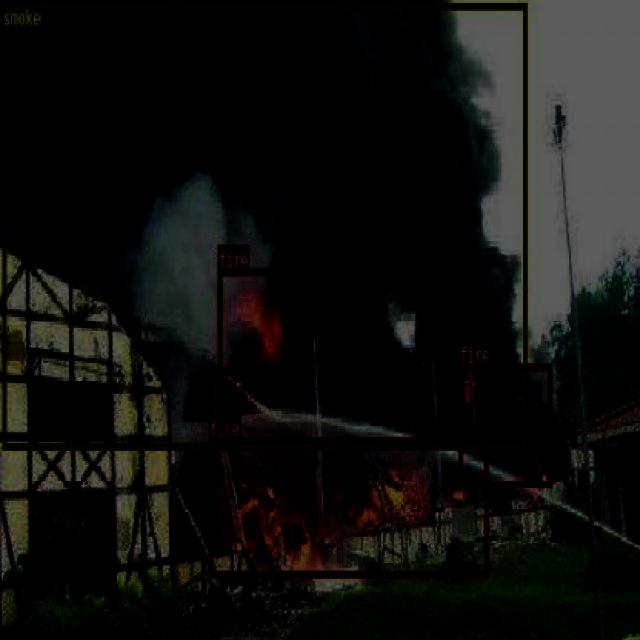fire: (208, 437, 488, 575), (458, 363, 551, 486), (218, 267, 312, 373)
smoke: (1, 1, 526, 448)
